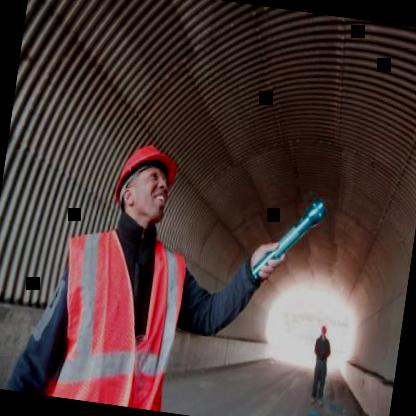helmet: (106, 132, 186, 239)
